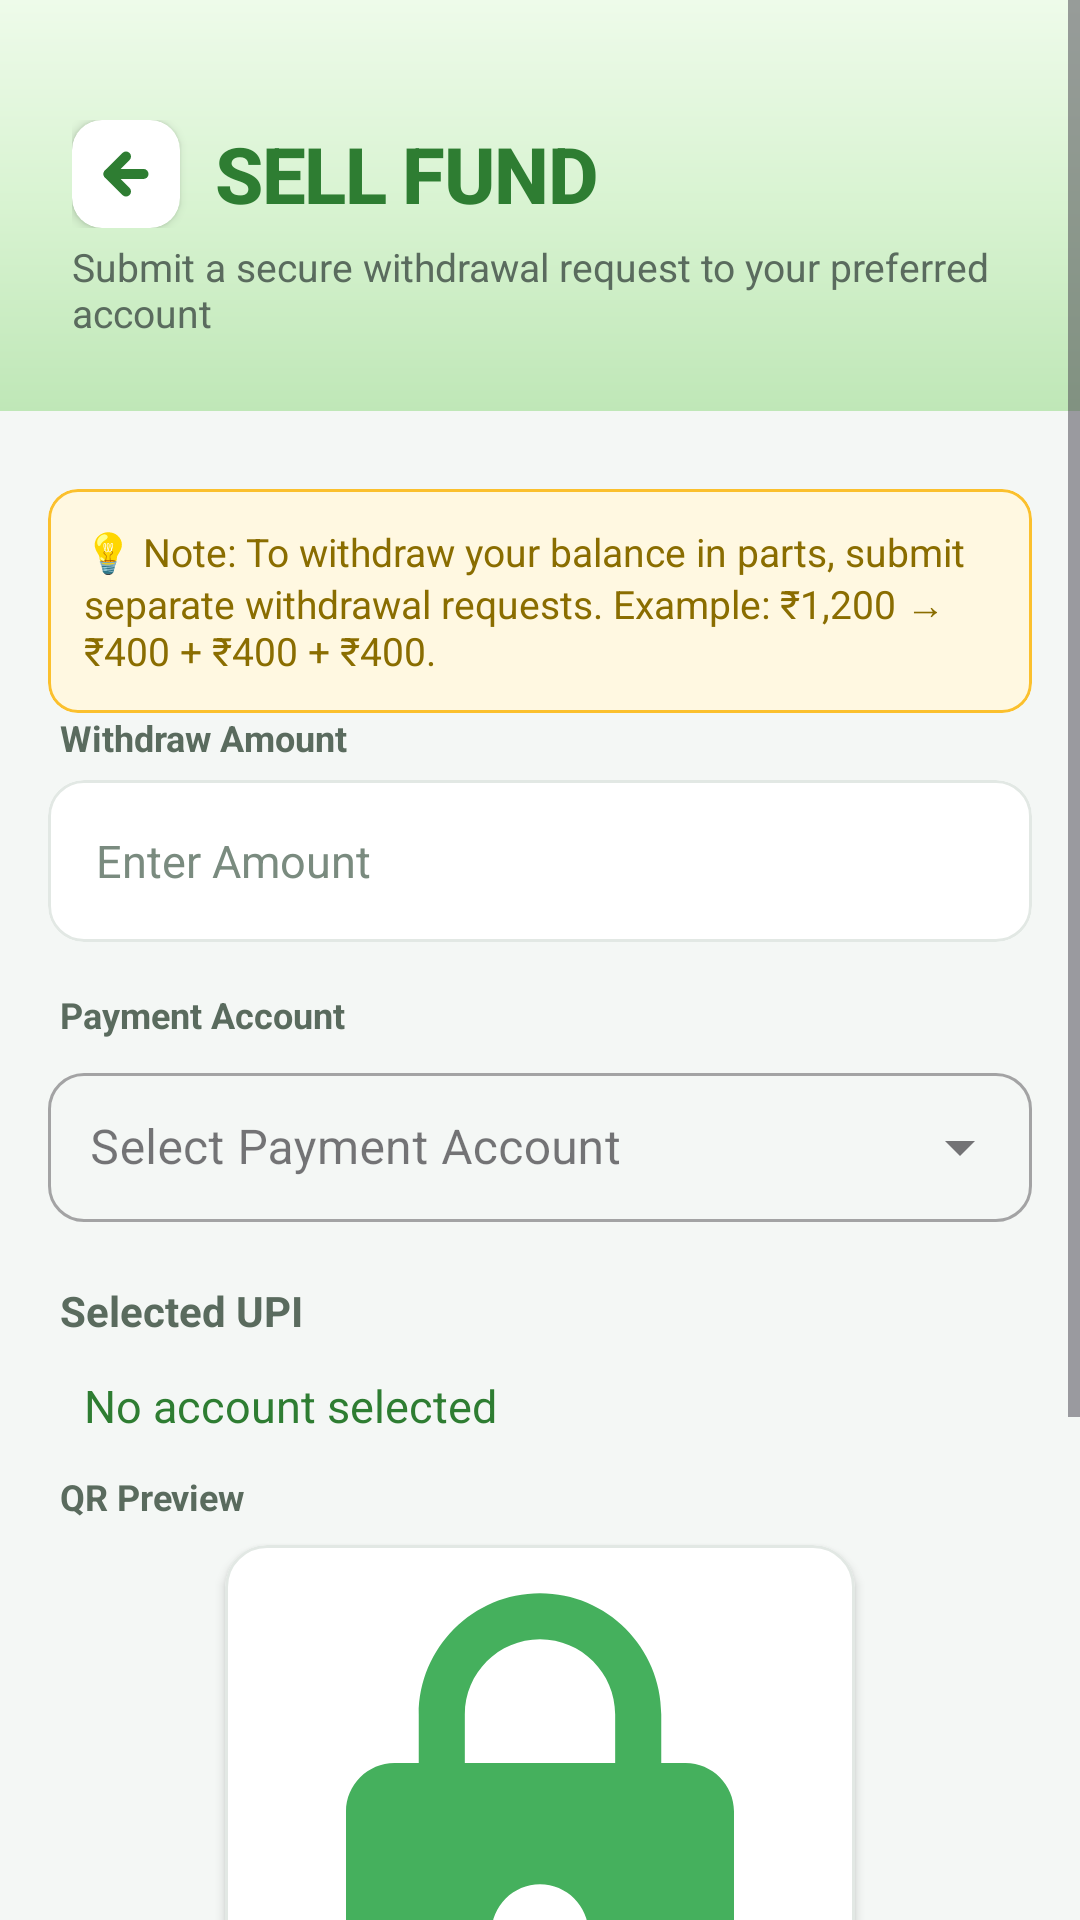

Named icons in this screenshot (1080px×1920px) and their centers, (x=x, y=y):
Go Back: (x=126, y=174)
